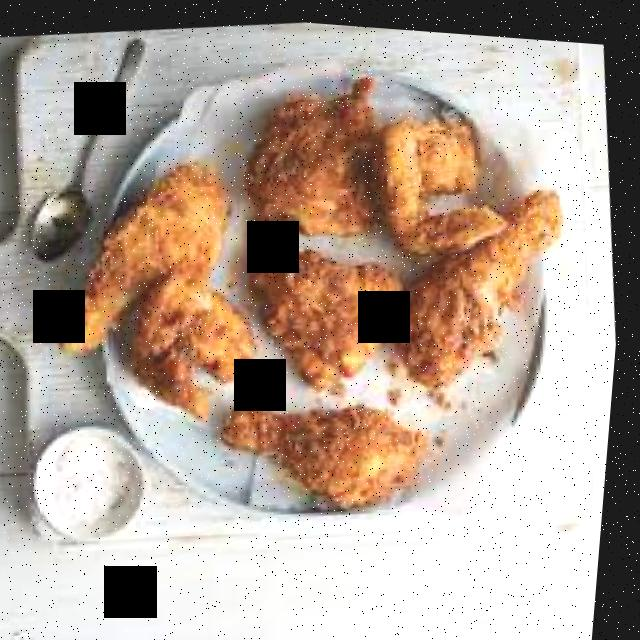Frango: (0, 20, 622, 545)
